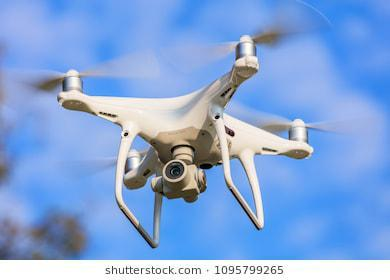drone: (56, 35, 315, 249)
